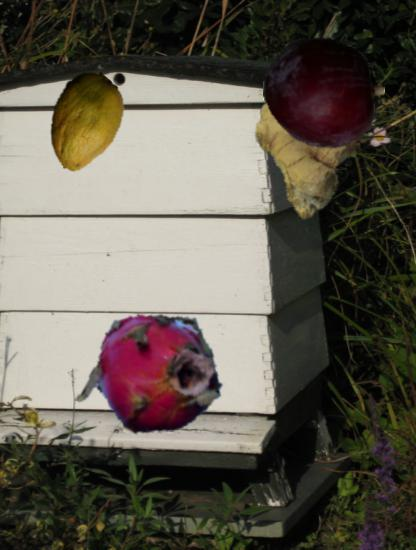Ginger: (240, 92, 369, 221)
Papaya: (34, 72, 131, 169)
Pitahaya: (92, 307, 226, 441)
Plum: (263, 31, 385, 153)
